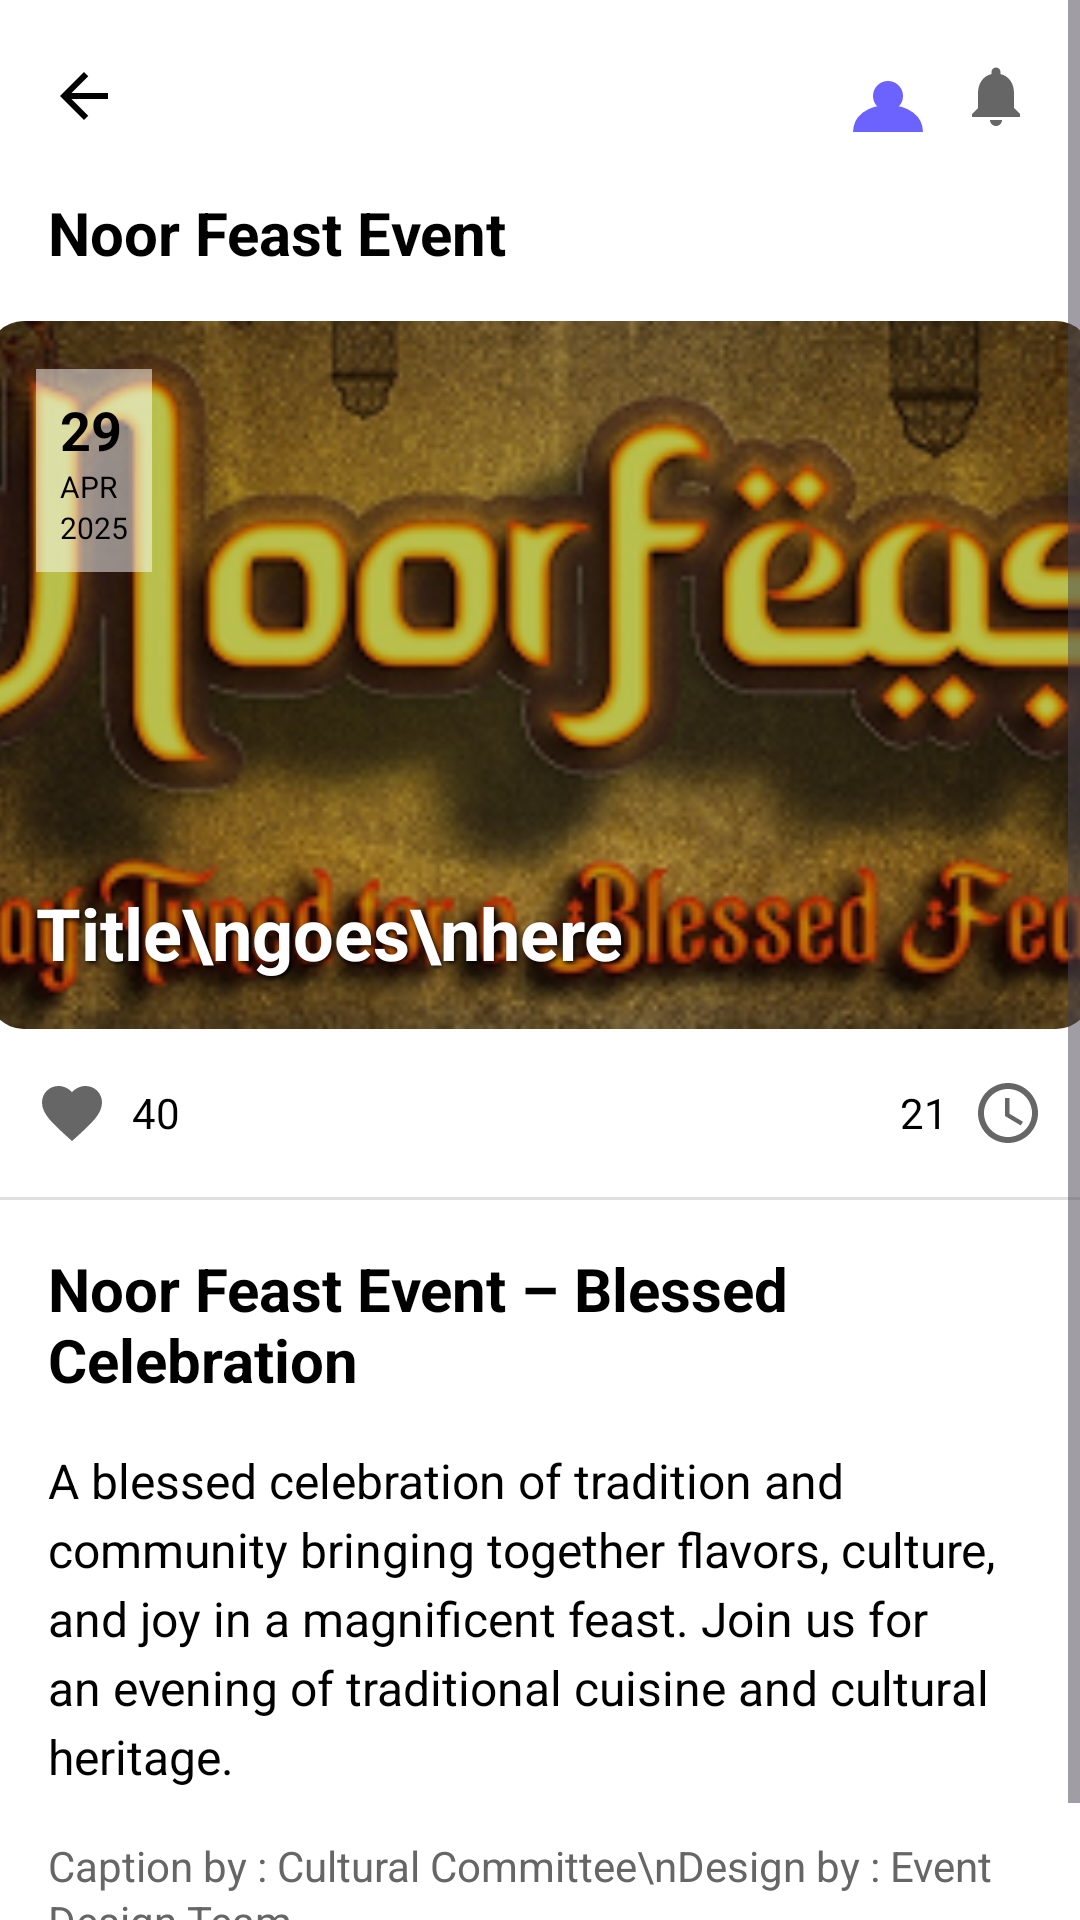

Where icons sit on this 1080px x 1920px app screen, as (x1, y1, x2, y2):
Back: (60, 72, 108, 120)
Like: (42, 1086, 102, 1141)
Notifications: (972, 67, 1020, 126)
Time: (978, 1083, 1038, 1143)
User Profile: (853, 81, 923, 132)
